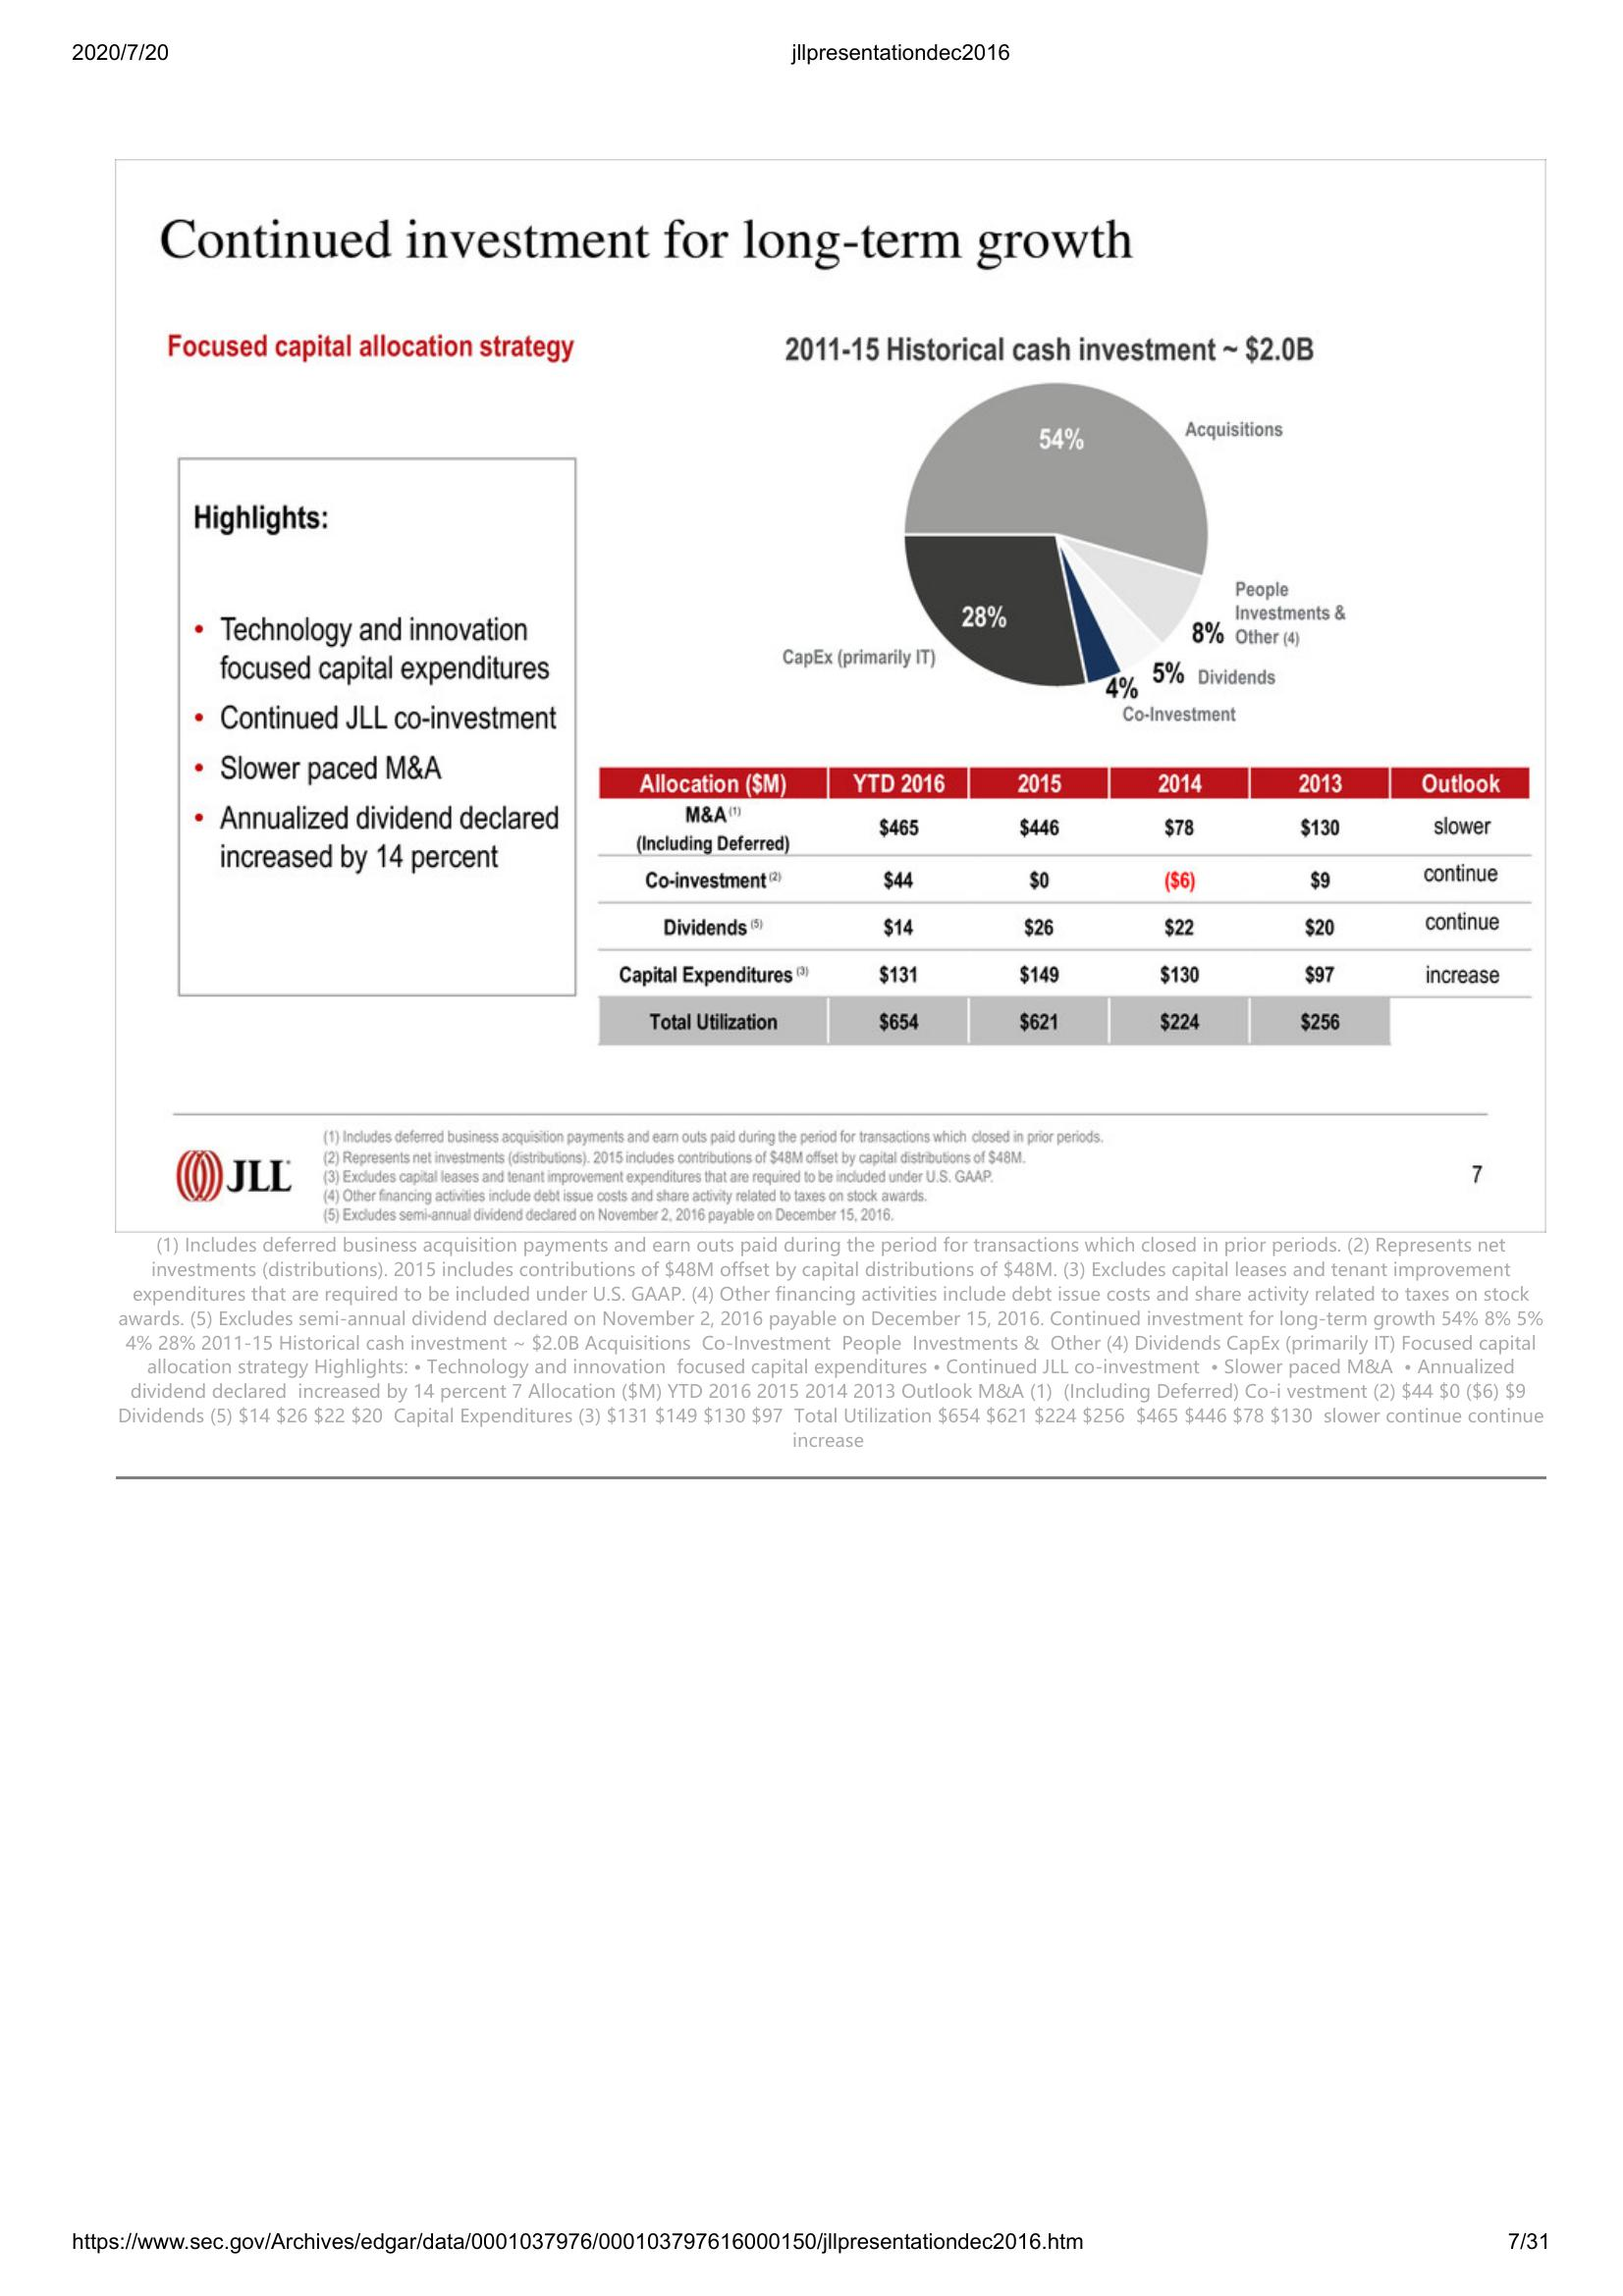table: (592, 760, 1530, 1050)
